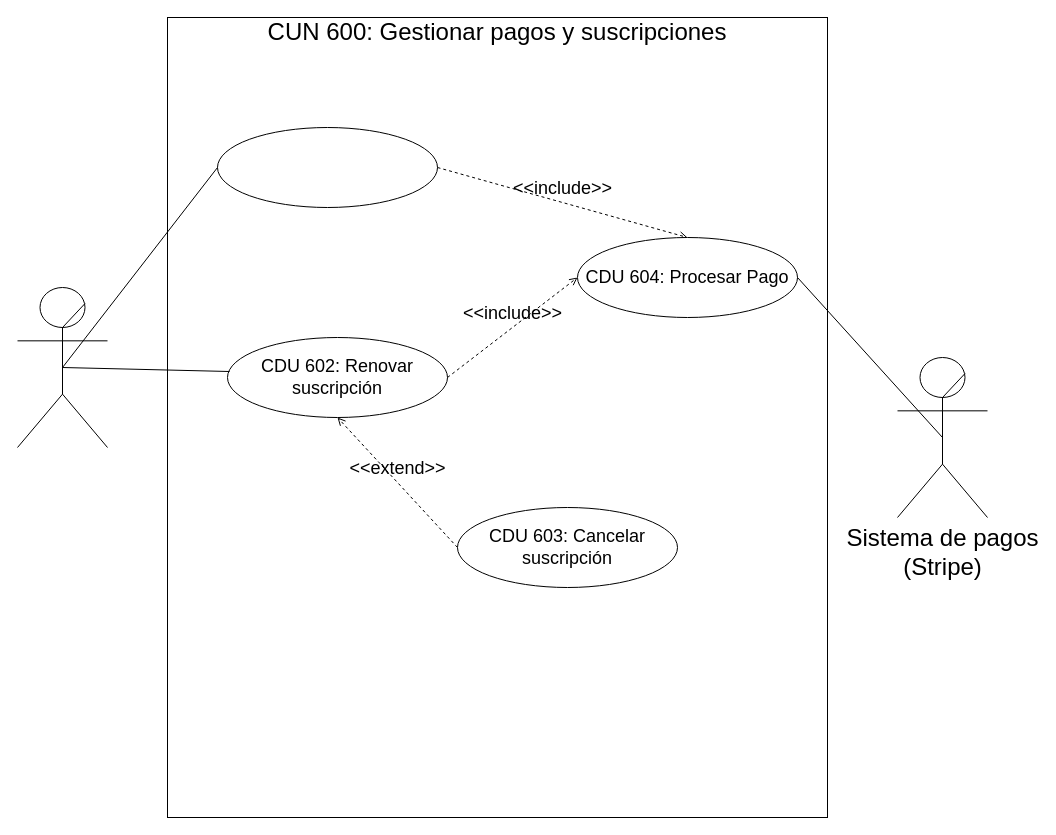
Some shapes in this 1056 by 835 pixel diagram are drawn without their labels. The shapes that lost their labels are listed below. From the top down, each one's centre as x and y in pixels, then its label:
(x=327, y=167): CDU 601: Suscribirse a plan
(x=62, y=367): Usuario
